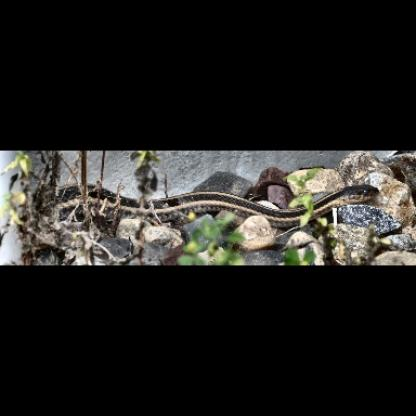Snake: (60, 175, 382, 226)
